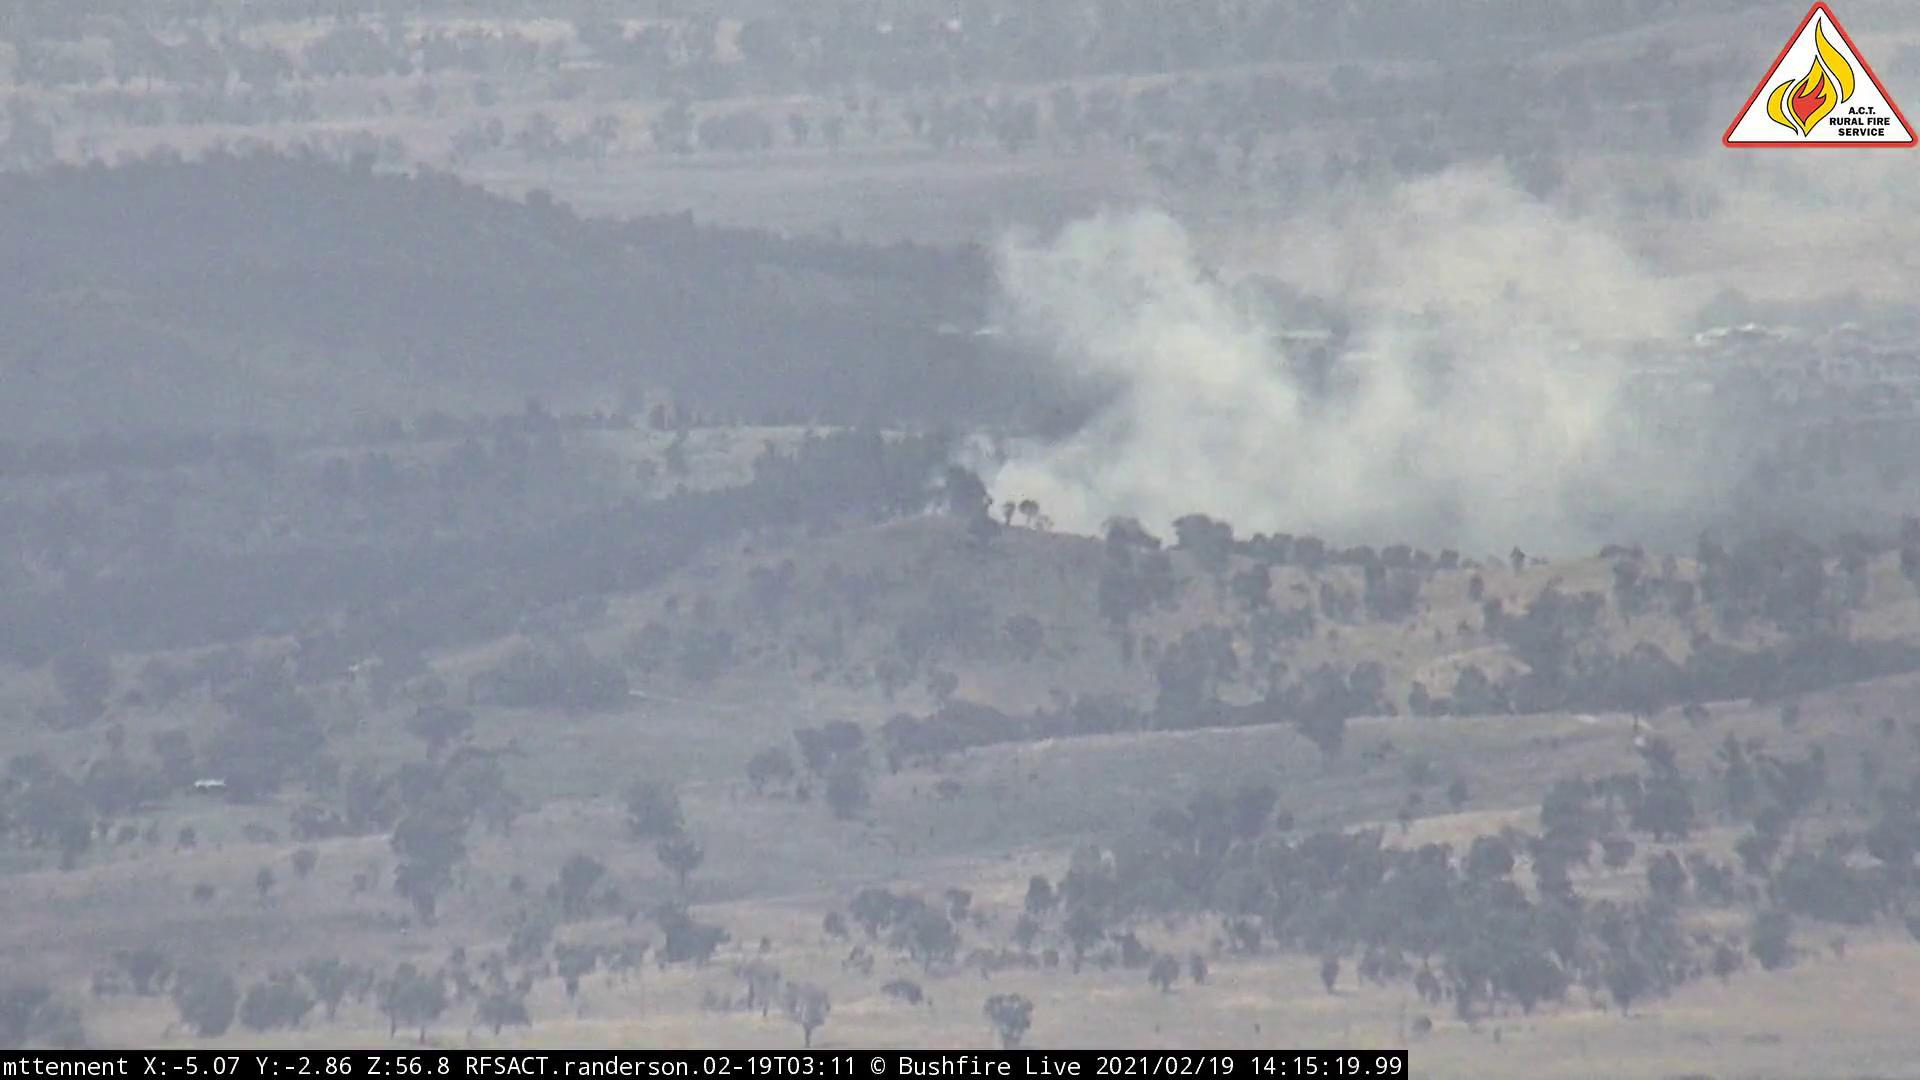Smoke: (855, 132, 1720, 555)
